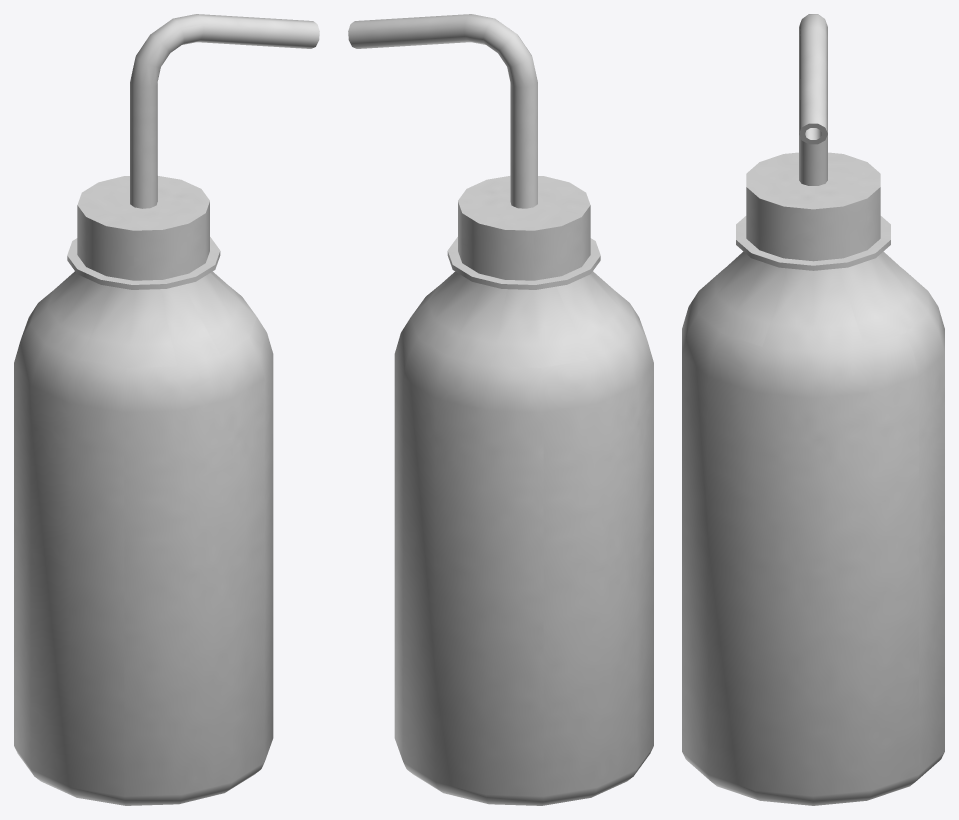
3 renders of one model, left to right at view 1: azimuth 30°, elevation 25°; view 2: azimuth 150°, elevation 25°; view 3: azimuth 270°, elevation 25°, orthographic. The views are drawn at different scales.
Visible parts, largest first — view 1: SM_实验室洗瓶; view 2: SM_实验室洗瓶; view 3: SM_实验室洗瓶.
Part boxes in pixels (x1=…): SM_实验室洗瓶: x1=14, y1=14, x2=319, y2=805; SM_实验室洗瓶: x1=348, y1=14, x2=653, y2=805; SM_实验室洗瓶: x1=682, y1=14, x2=944, y2=805.
Size of the model in its own units: 125 by 307 by 96.31.
